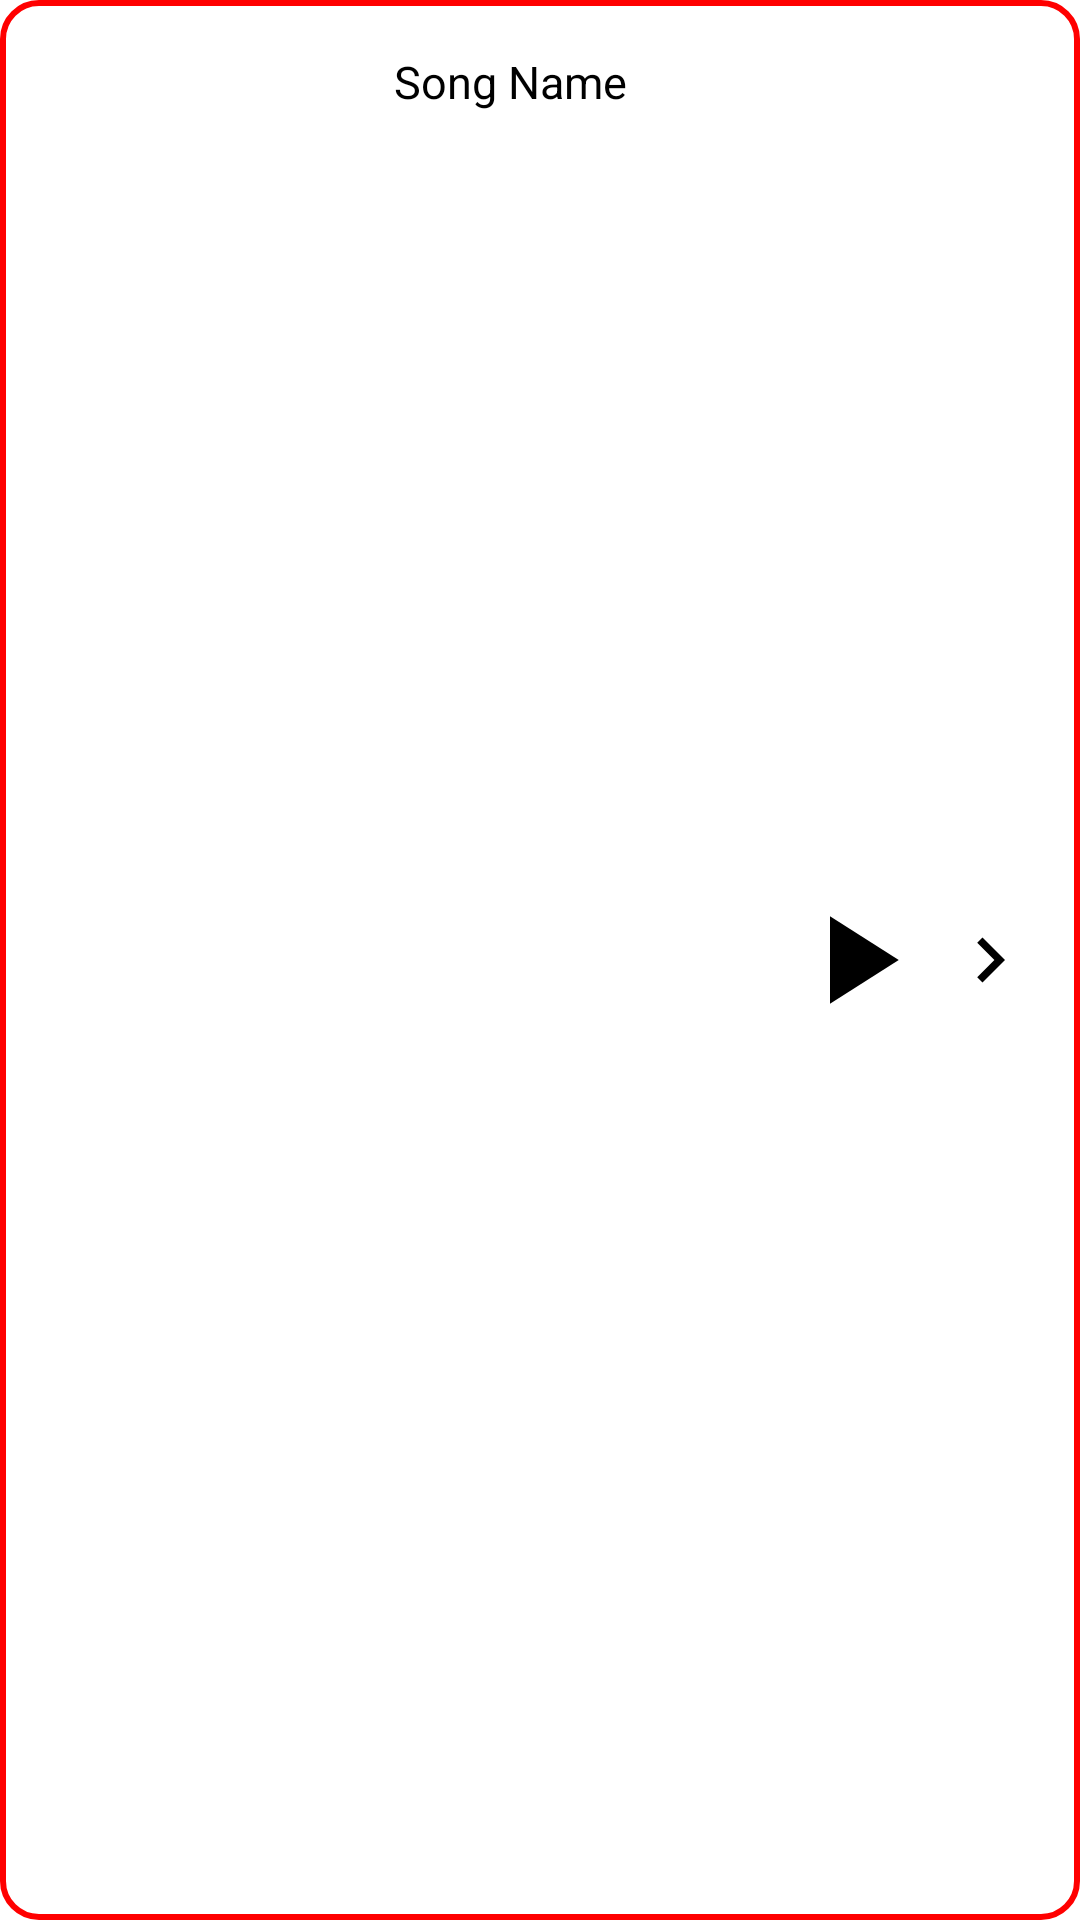

Named icons in this screenshot (1080 × 1920) and their bounding boxes, (x1, y1, x2, y2):
next: (977, 937, 1005, 983)
play: (830, 916, 899, 1004)
